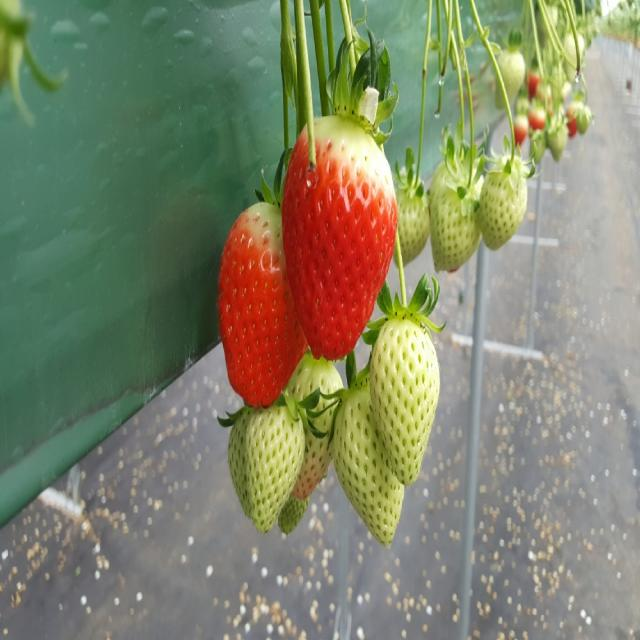ripe: (201, 90, 398, 397)
unripe: (230, 302, 444, 552), (378, 135, 536, 286)
